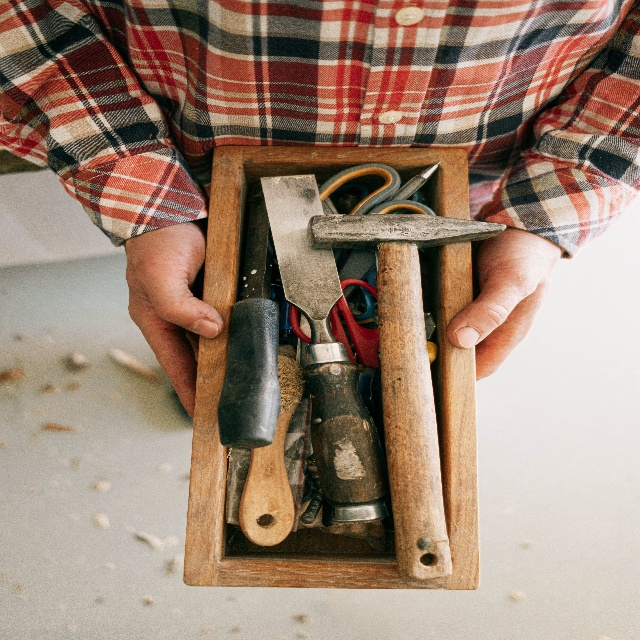Sin_guantes: (122, 218, 225, 418), (446, 214, 566, 382)
